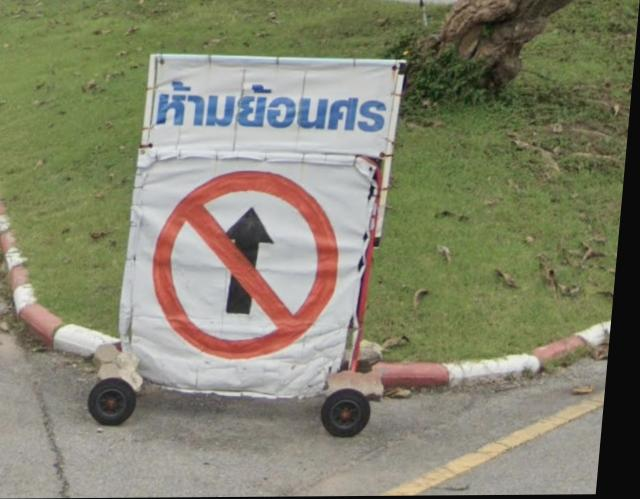not_go_straight: (143, 166, 358, 369)
